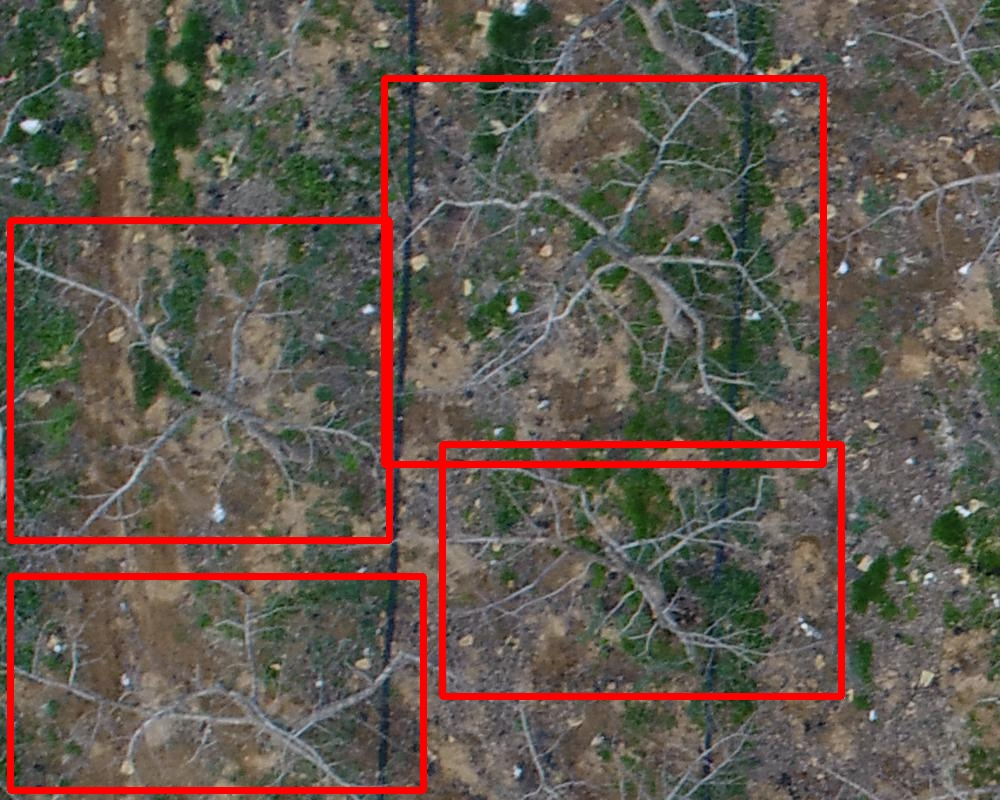apple: (384, 78, 823, 464), (10, 220, 389, 540), (442, 444, 841, 696), (10, 576, 423, 790)
